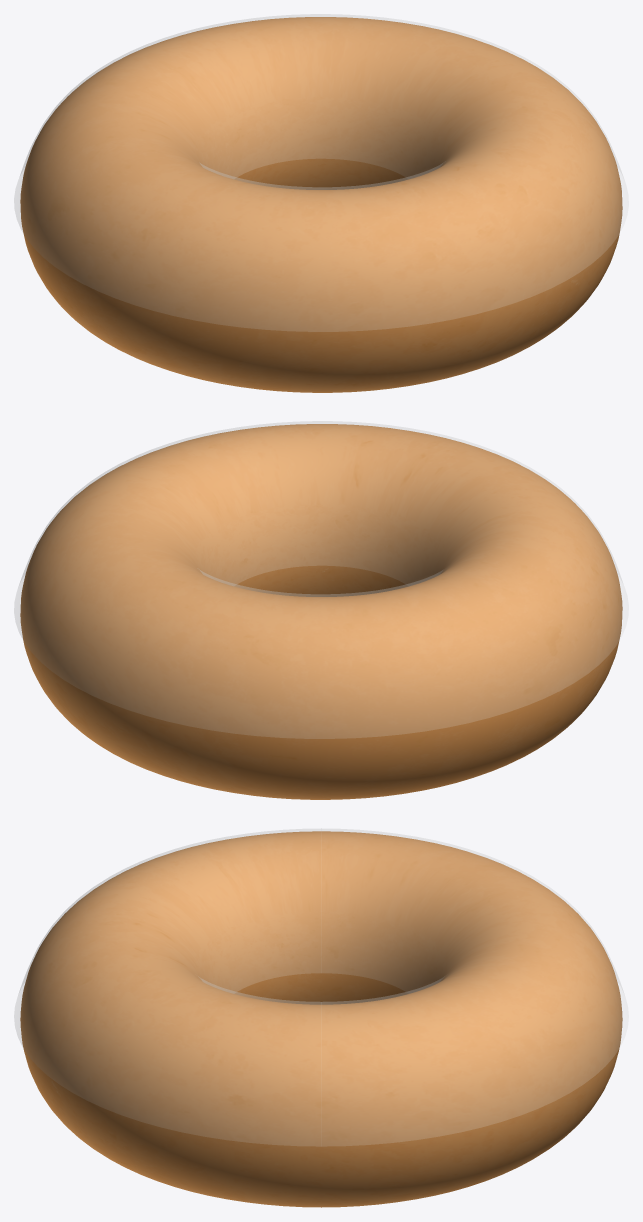
The model's file is Donut4.obj.
3 views of the same model, one above another, from view 1: azimuth 30°, elevation 25°; view 2: azimuth 150°, elevation 25°; view 3: azimuth 270°, elevation 25° (orthographic).
Parts seen in each view (by area): view 1: mesh03; view 2: mesh03; view 3: mesh03.
Boxes of the visible parts, box(x1,y1,x2,y2) form: mesh03: box(14, 14, 628, 392); mesh03: box(14, 421, 628, 799); mesh03: box(14, 828, 628, 1207).
Size of the model in its own units: 14.06 by 4.76 by 14.05.
Materials: 2 (1 with a texture image).
